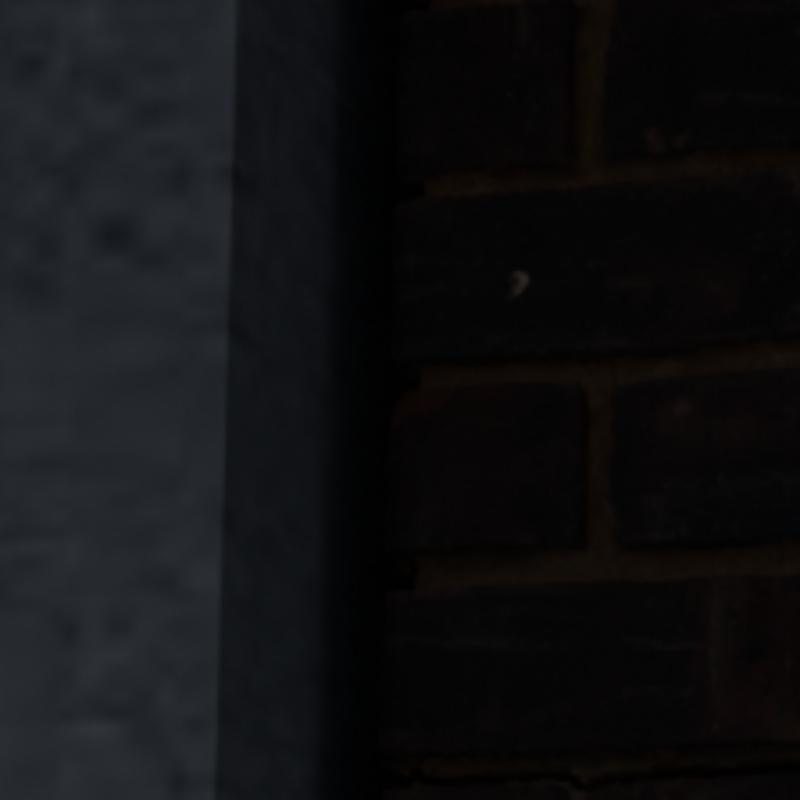pothole: (411, 761, 796, 789)
